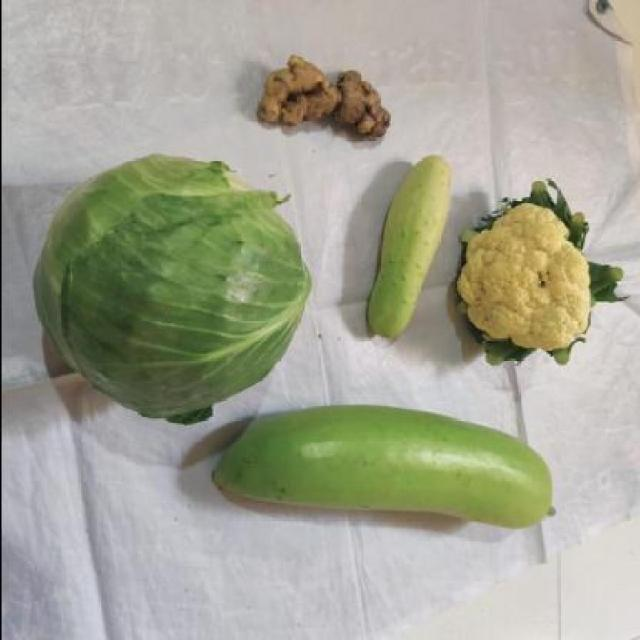Cabbage: (37, 142, 317, 438)
Calabash: (198, 404, 564, 550)
Cauliflower: (449, 165, 628, 392)
Ginger: (243, 54, 404, 156)
cucumber: (357, 144, 468, 358)
